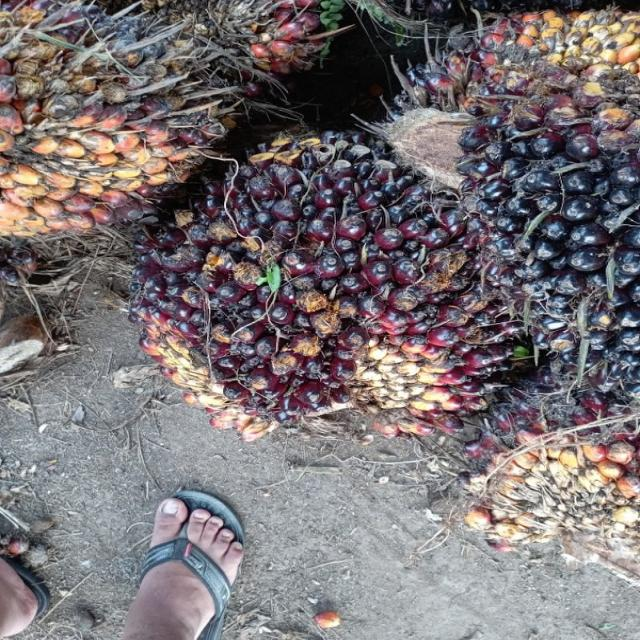fraksi 00: (431, 0, 640, 326)
fraksi 1: (140, 138, 509, 434), (0, 0, 237, 242)
